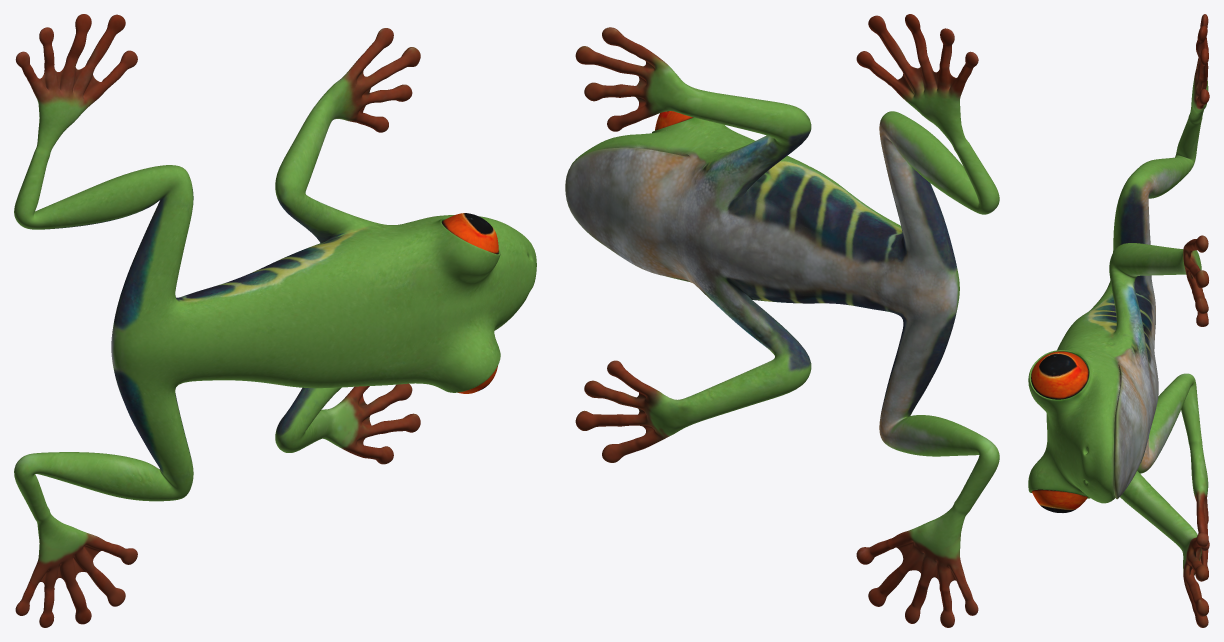
The model's file is frog.obj.
The picture shows the model from 3 angles, left to right: view 1: azimuth 30°, elevation 25°; view 2: azimuth 150°, elevation 25°; view 3: azimuth 270°, elevation 25°; orthographic projection. The views are drawn at different scales.
Parts seen in each view (by area): view 1: Frog; view 2: Frog; view 3: Frog.
Part boxes in pixels (x1=…): Frog: x1=14, y1=14, x2=536, y2=627; Frog: x1=565, y1=14, x2=999, y2=627; Frog: x1=1028, y1=14, x2=1209, y2=627.
Size of the model in its own units: 9.26 by 11.37 by 3.41.
